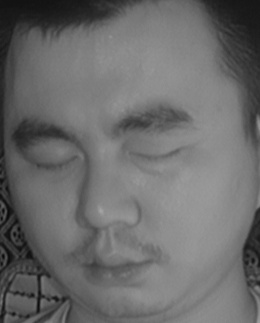blink: (129, 136, 185, 174), (31, 144, 83, 182)
mouth: (69, 238, 155, 293)
